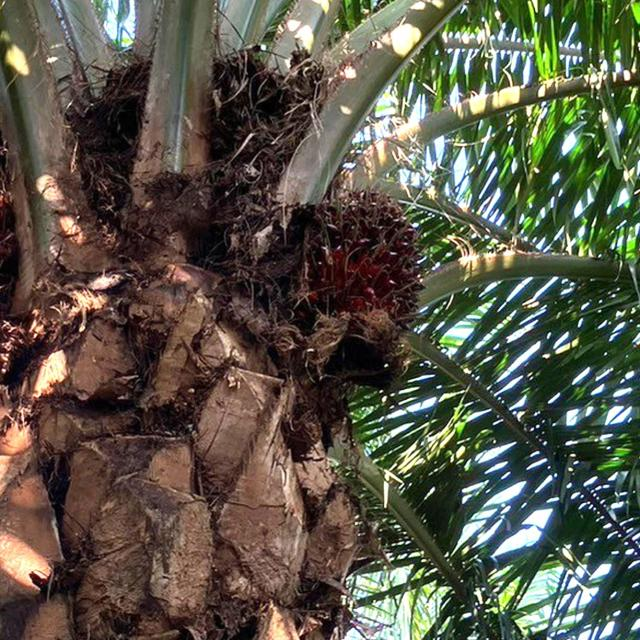ripe: (289, 192, 423, 366)
